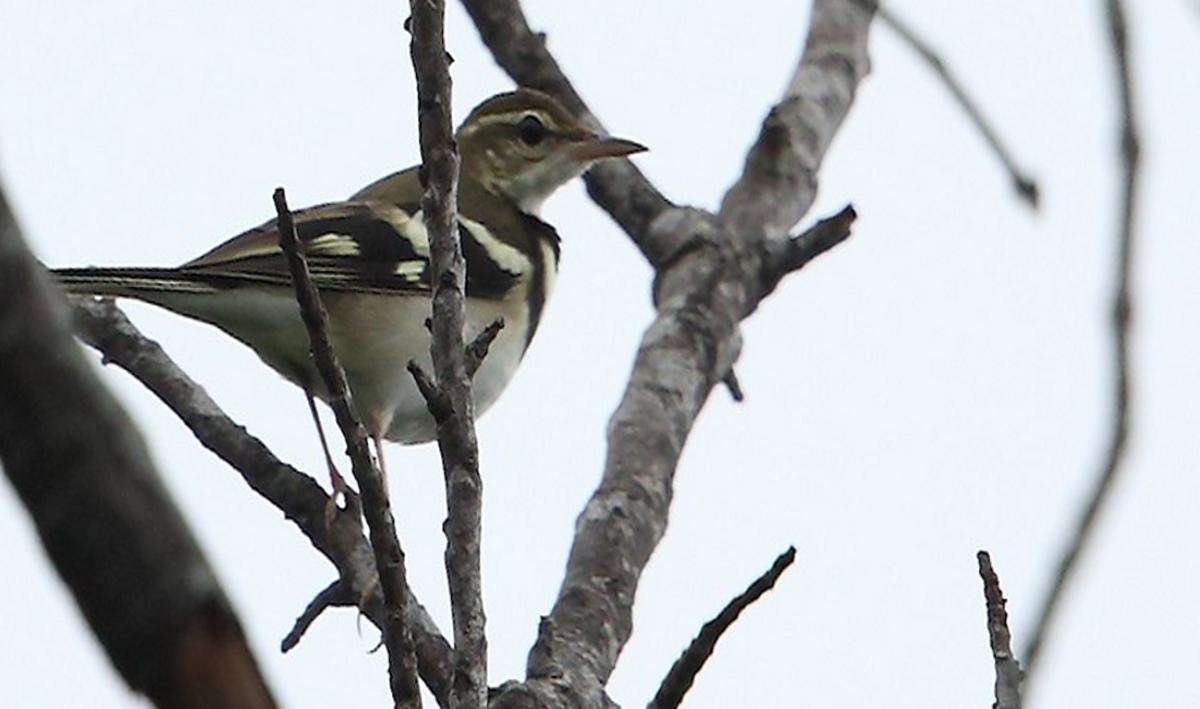wagtail: (161, 77, 631, 428)
